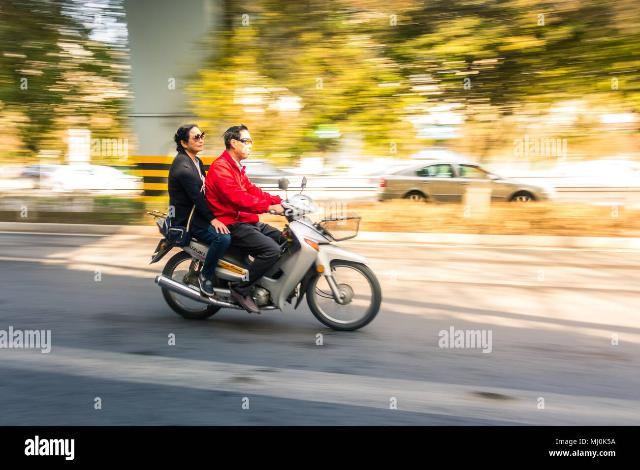motor: (153, 196, 384, 332)
non-helm: (176, 126, 205, 153)
